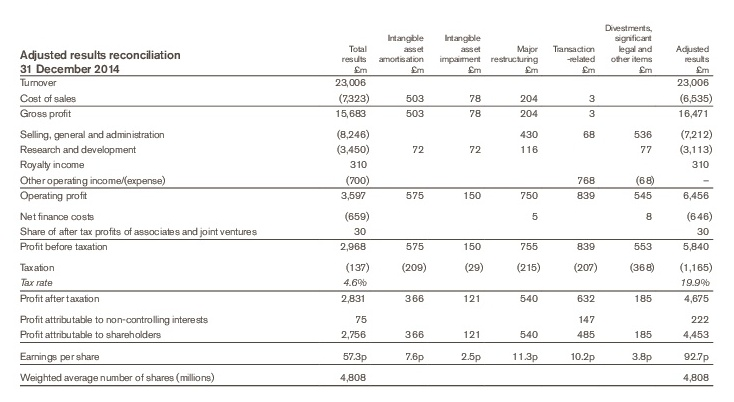table: (0, 0, 734, 402)
